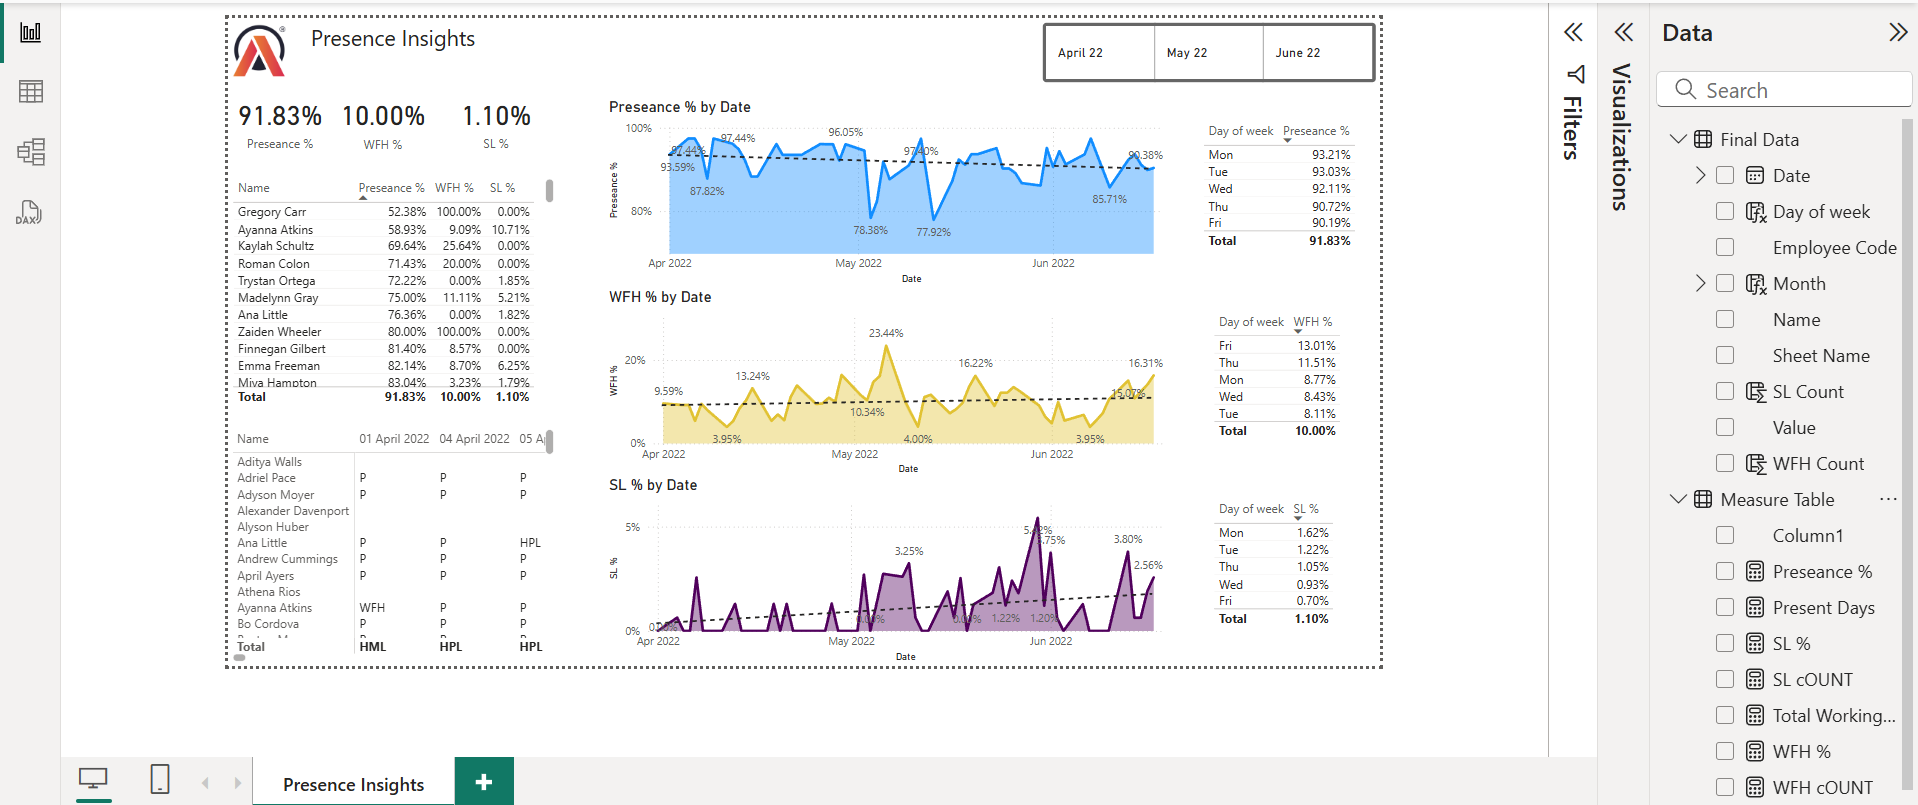

What the dashboard file says about the page in this screenshot:
{"tool":"powerbi","page":{"name":"Presence Insights","canvas":[1280,720],"ordinal":0},"visuals":[{"type":"card","fields":{"Values":["Measure Table.Preseance %"]},"box":[0,76.7,115,76.7],"z":0},{"type":"advancedSlicerVisual","title":"Month","fields":{"Values":["Final Data.Month"]},"box":[900,0,380,76.7],"z":1000},{"type":"card","fields":{"Values":["Measure Table.WFH %"]},"box":[115,76.7,113.3,76.7],"z":2000},{"type":"card","fields":{"Values":["Measure Table.SL %"]},"box":[228.3,76.7,138.3,76.7],"z":3000},{"type":"tableEx","fields":{"Values":["Final Data.Name","Measure Table.Preseance %","Measure Table.WFH %","Measure Table.SL %"]},"box":[0,173.3,366.7,260],"z":4000},{"type":"textbox","box":[0,0,366.7,50],"z":5000},{"type":"pivotTable","fields":{"Rows":["Final Data.Name"],"Values":["Min(Final Data.Value)"],"Columns":["Final Data.Date"]},"box":[0,451.7,366.7,268.3],"z":6000},{"type":"areaChart","fields":{"Y":["Measure Table.Preseance %"],"Category":["Final Data.Date"]},"box":[418.3,88.3,640,211.7],"z":7000},{"type":"areaChart","fields":{"Y":["Measure Table.WFH %"],"Category":["Final Data.Date"]},"box":[418.3,300,640,211.7],"z":8000},{"type":"areaChart","fields":{"Y":["Measure Table.SL %"],"Category":["Final Data.Date"]},"box":[418.3,508.3,640,211.7],"z":9000},{"type":"tableEx","fields":{"Values":["Final Data.Day of week","Measure Table.Preseance %"]},"box":[1078.3,110,185,170],"z":10000},{"type":"tableEx","fields":{"Values":["Final Data.Day of week","Measure Table.WFH %"]},"box":[1090,321.7,185,170],"z":11000},{"type":"tableEx","fields":{"Values":["Final Data.Day of week","Measure Table.SL %"]},"box":[1090,530,185,170],"z":12000},{"type":"image","box":[0,0,70,71.7],"z":12001}]}

Visuals, with their boxes on the page's 1280x720 design canvas (x1, y1, x2, y2). These are canvas units, not pixel positions in the 1918x805 screenshot, which may show the page scaled, cropped or inside an application window:
card - Measure Table.Preseance %: <box>0,77,115,153</box>
"Month" advancedSlicerVisual: <box>900,0,1280,77</box>
card - Measure Table.WFH %: <box>115,77,228,153</box>
card - Measure Table.SL %: <box>228,77,367,153</box>
tableEx - Final Data.Name x Measure Table.Preseance %: <box>0,173,367,433</box>
textbox: <box>0,0,367,50</box>
pivotTable - Final Data.Name x Min(Final Data.Value): <box>0,452,367,720</box>
areaChart - Measure Table.Preseance % x Final Data.Date: <box>418,88,1058,300</box>
areaChart - Measure Table.WFH % x Final Data.Date: <box>418,300,1058,512</box>
areaChart - Measure Table.SL % x Final Data.Date: <box>418,508,1058,720</box>
tableEx - Final Data.Day of week x Measure Table.Preseance %: <box>1078,110,1263,280</box>
tableEx - Final Data.Day of week x Measure Table.WFH %: <box>1090,322,1275,492</box>
tableEx - Final Data.Day of week x Measure Table.SL %: <box>1090,530,1275,700</box>
image: <box>0,0,70,72</box>
